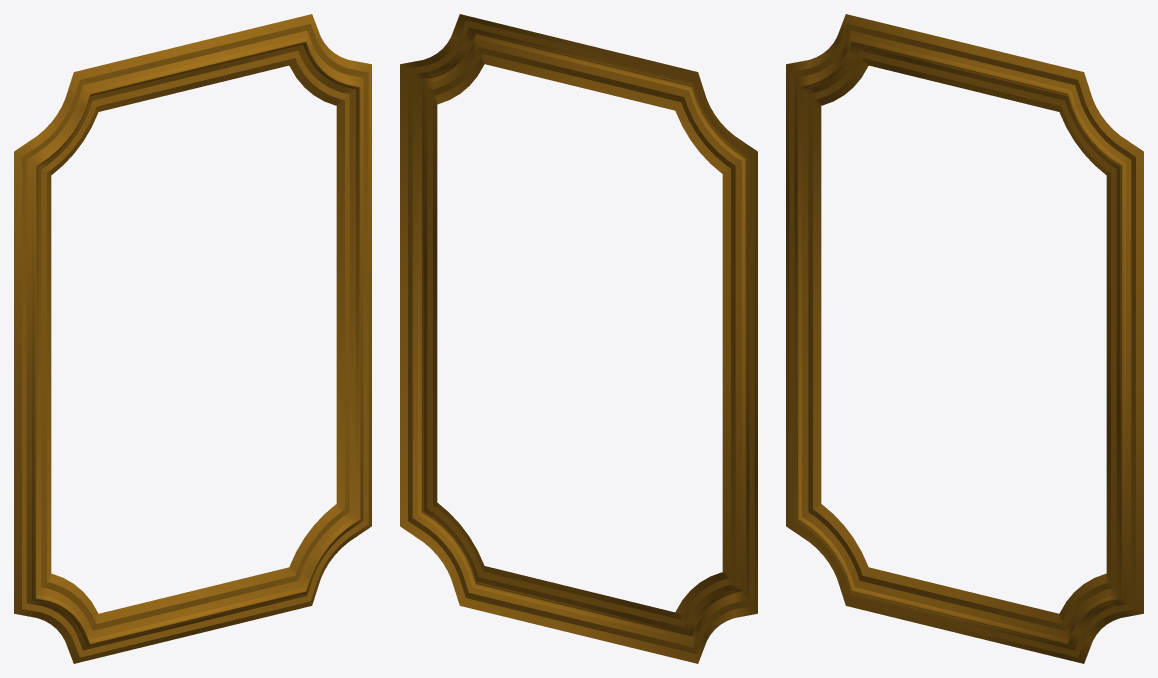
Rendered from Picture_Frame_Export.fbx.
The picture shows the model from 3 angles, left to right: view 1: azimuth 30°, elevation 25°; view 2: azimuth 150°, elevation 25°; view 3: azimuth 330°, elevation 25°; orthographic projection.
Visible parts, largest first — view 1: Shape001; view 2: Shape001; view 3: Shape001.
Boxes of the visible parts, left/top/right/bottom form: Shape001: left=14, top=14, right=371, bottom=663; Shape001: left=400, top=14, right=757, bottom=663; Shape001: left=786, top=14, right=1143, bottom=663.
Size of the model in its own units: 903 by 1427 by 23.04.
